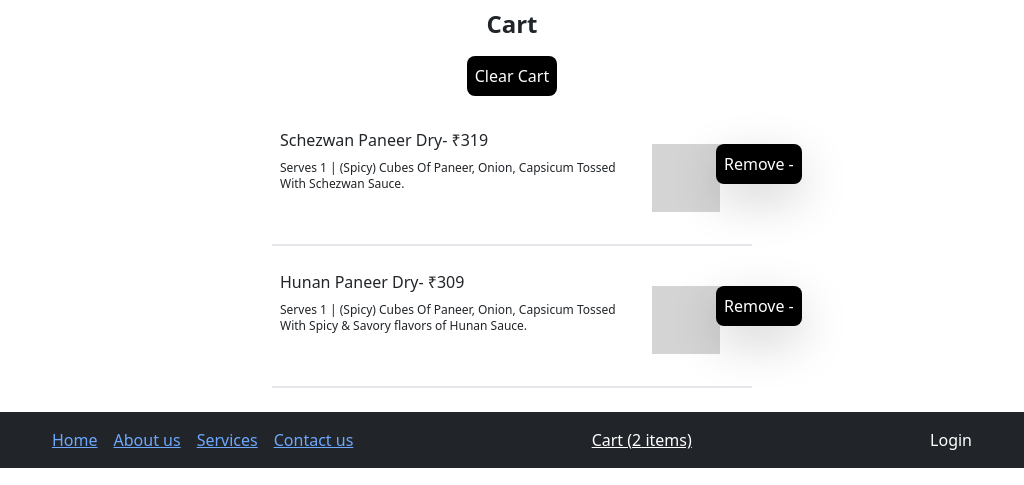
Test case: Add to cart test cases › Should clear the cart on click of clear cart button
Step 1. Click the button "Clear Cart" → (512, 76), box [467,56,557,96]
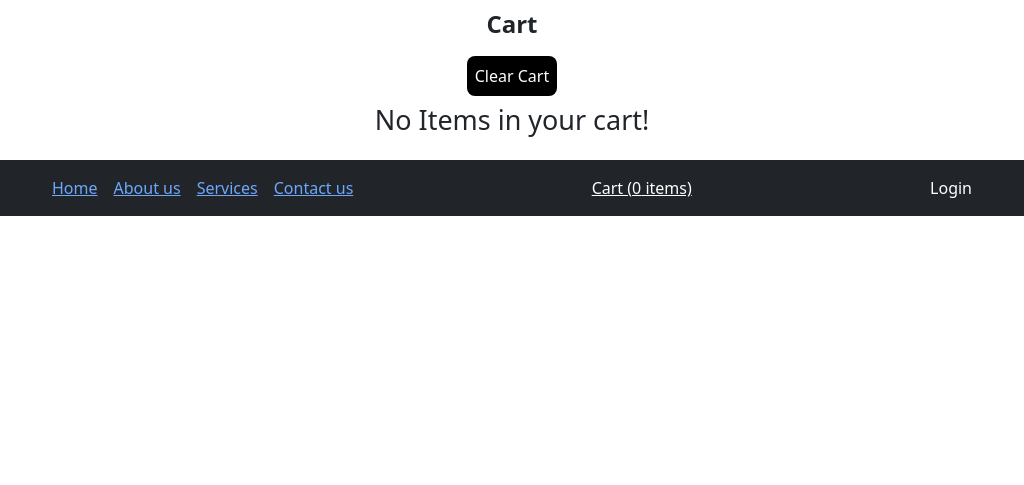
Check: the link "Cart (0 items)" is shown, box [592,177,692,199]
